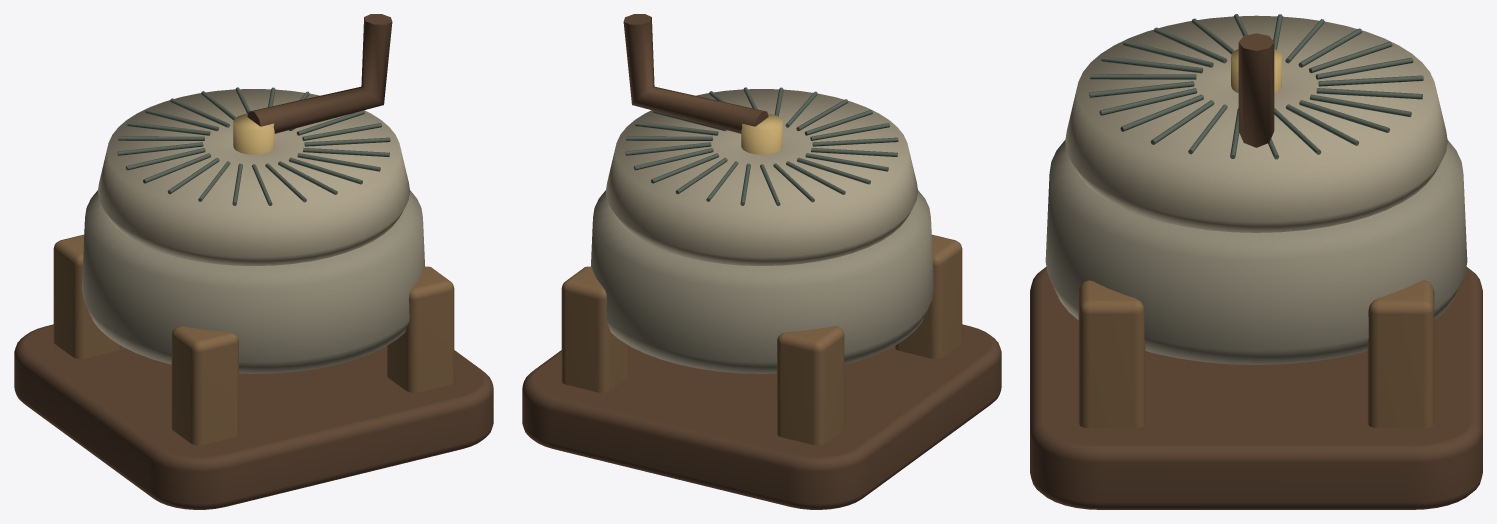
Rendered from hand_mill_atelier.glb.
The picture shows the model from 3 angles, left to right: view 1: azimuth 30°, elevation 25°; view 2: azimuth 150°, elevation 25°; view 3: azimuth 270°, elevation 25°; orthographic projection. The views are drawn at different scales.
Visible parts, largest first — view 1: hand_mill_atelier__TaggedPainted_hand_mill_atelier_Matte, hand_mill_atelier__Painted_hand_mill_atelier_Metal; view 2: hand_mill_atelier__TaggedPainted_hand_mill_atelier_Matte, hand_mill_atelier__Painted_hand_mill_atelier_Metal; view 3: hand_mill_atelier__TaggedPainted_hand_mill_atelier_Matte, hand_mill_atelier__Painted_hand_mill_atelier_Metal.
Boxes of the visible parts, x1,y1,x2,y2 form: hand_mill_atelier__TaggedPainted_hand_mill_atelier_Matte: (14,14,493,509); hand_mill_atelier__Painted_hand_mill_atelier_Metal: (233,113,274,154); hand_mill_atelier__TaggedPainted_hand_mill_atelier_Matte: (522,14,1001,509); hand_mill_atelier__Painted_hand_mill_atelier_Metal: (741,113,782,154); hand_mill_atelier__TaggedPainted_hand_mill_atelier_Matte: (1030,14,1482,509); hand_mill_atelier__Painted_hand_mill_atelier_Metal: (1231,49,1281,93).
Size of the model in its own units: 1.22 by 1.26 by 1.16.
